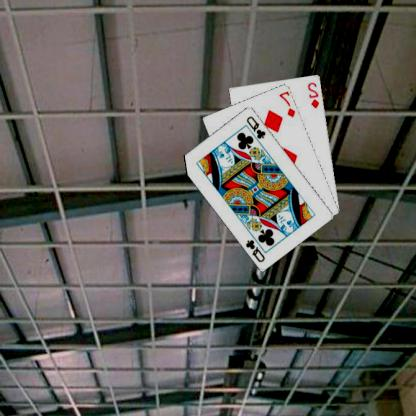2D: (308, 80, 322, 110)
7D: (278, 89, 299, 118)
QC: (245, 113, 269, 140), (245, 237, 268, 263)
